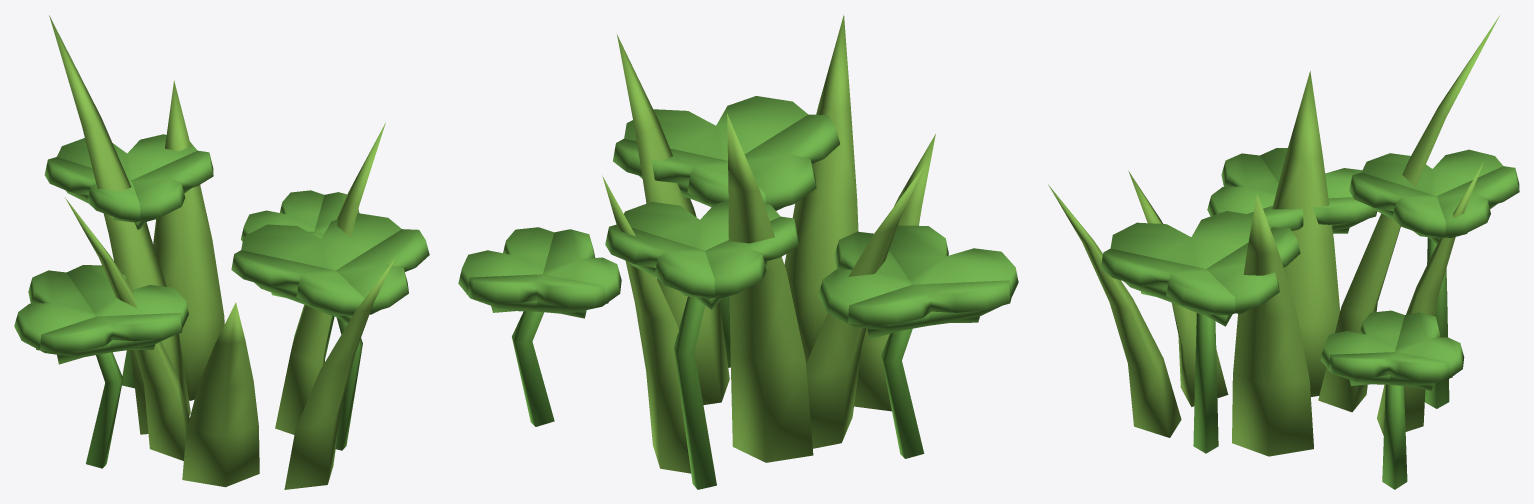
The model's file is grass-tuft-clover.glb.
3 renders of one model, left to right at view 1: azimuth 30°, elevation 25°; view 2: azimuth 150°, elevation 25°; view 3: azimuth 270°, elevation 25°, orthographic. The views are drawn at different scales.
Visible parts, largest first — view 1: body; view 2: body; view 3: body.
Part boxes in pixels (box(x1,y1,x2,y2)): body: box(14, 15, 429, 489); body: box(458, 15, 1018, 489); body: box(1048, 15, 1519, 489).
Bounding box in the file's own units: 0.2257 × 0.1925 × 0.2251.
